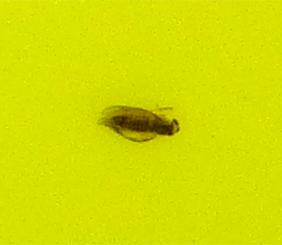Hemiptera: (100, 100, 182, 145)
